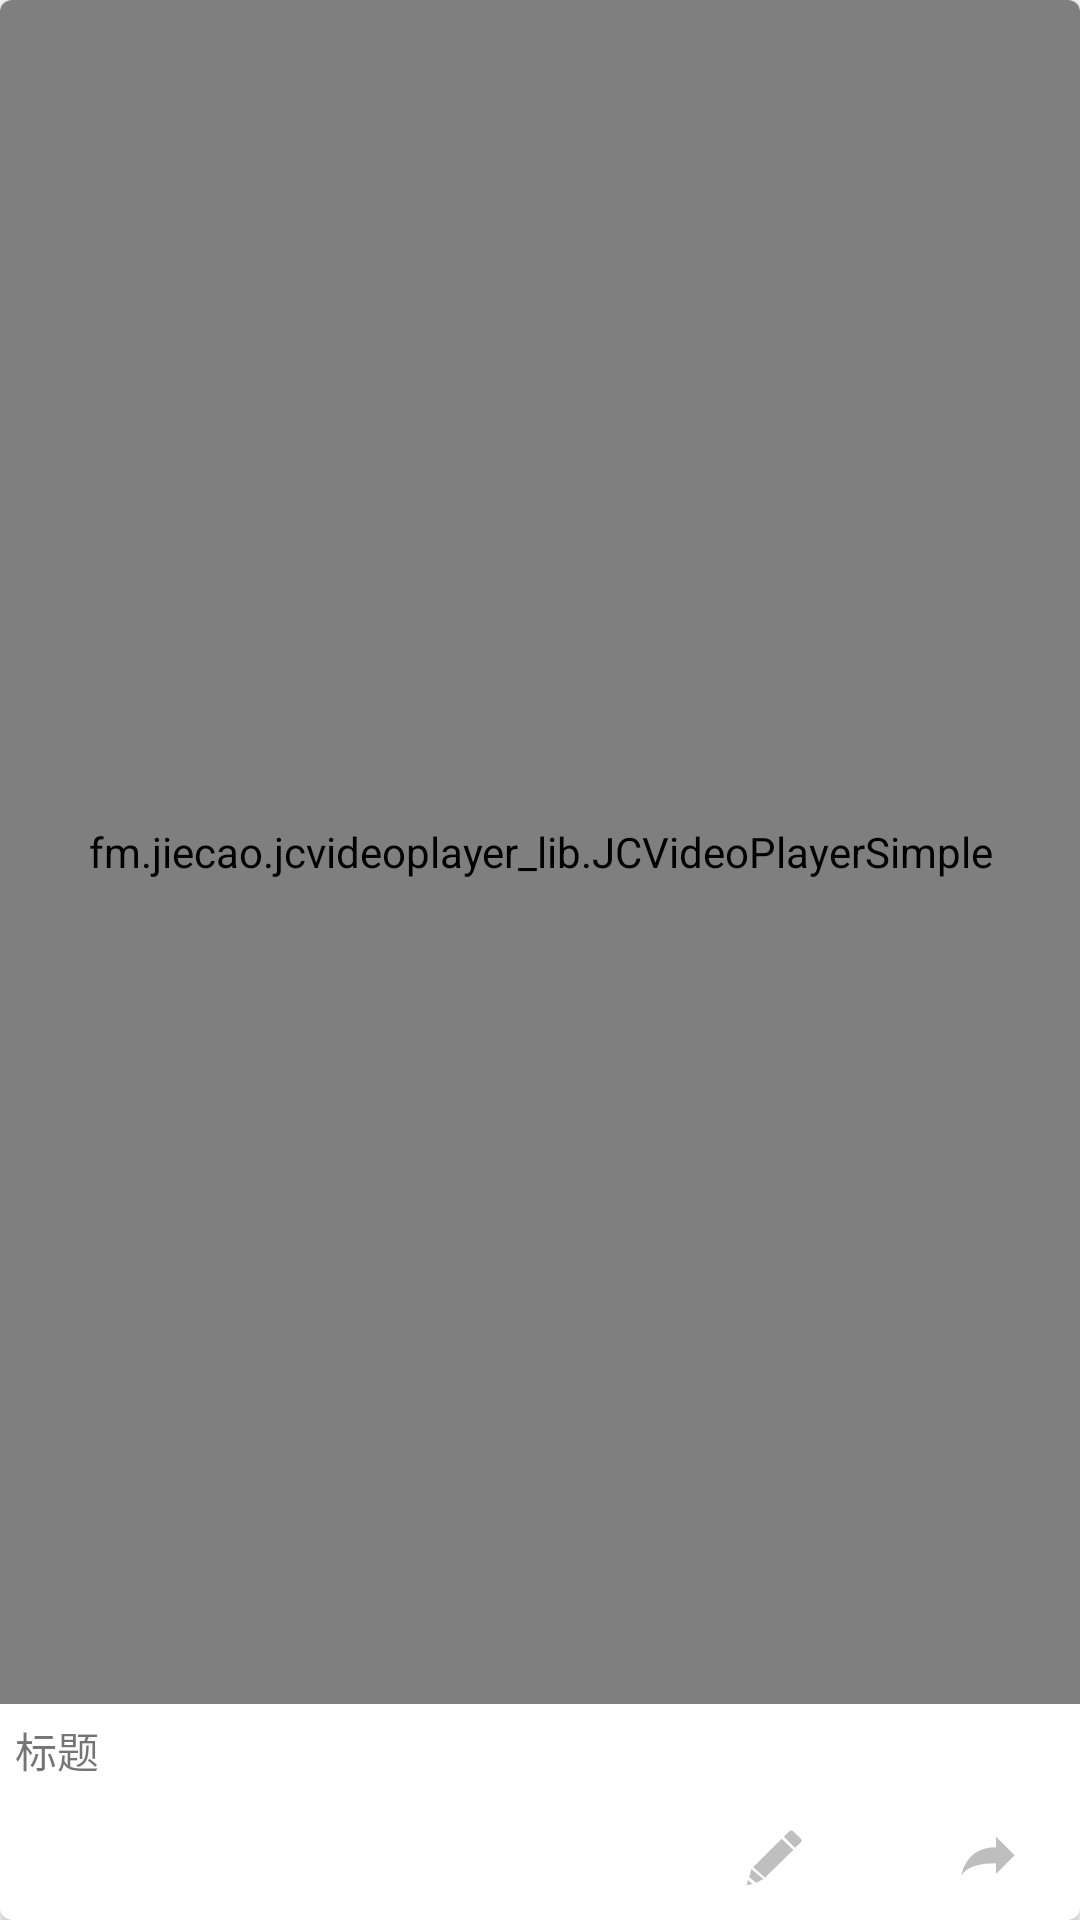

Icon bounding boxes for this 1080 x 1920 phone screenshot, format {"x1": x1, "y1": y1, "x2": x2, "y2": y2}:
comment: {"x1": 747, "y1": 1830, "x2": 802, "y2": 1885}
share: {"x1": 961, "y1": 1837, "x2": 1014, "y2": 1875}
